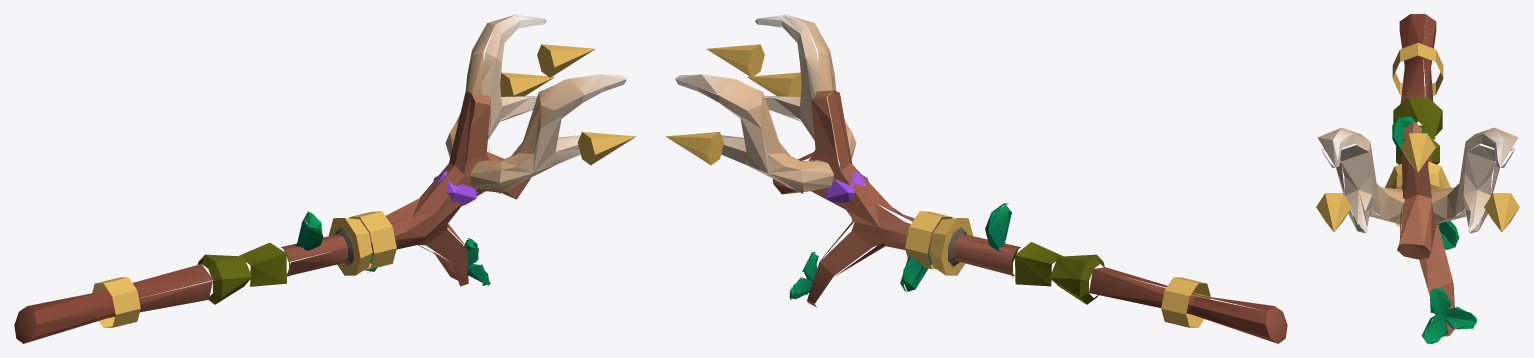
The model's file is druid_staff_t3_epic.glb.
The picture shows the model from 3 angles, left to right: view 1: azimuth 30°, elevation 25°; view 2: azimuth 150°, elevation 25°; view 3: azimuth 270°, elevation 25°; orthographic projection. The views are drawn at different scales.
Parts seen in each view (by area): view 1: druid_staff_t3_epic__handslot_r; view 2: druid_staff_t3_epic__handslot_r; view 3: druid_staff_t3_epic__handslot_r.
Part boxes in pixels (x1,y1,x2,y2): druid_staff_t3_epic__handslot_r: (14, 14, 636, 343); druid_staff_t3_epic__handslot_r: (665, 14, 1287, 343); druid_staff_t3_epic__handslot_r: (1316, 14, 1519, 343).
Size of the model in its own units: 2.29 by 0.8747 by 0.68.
3 materials, 2 textured.
